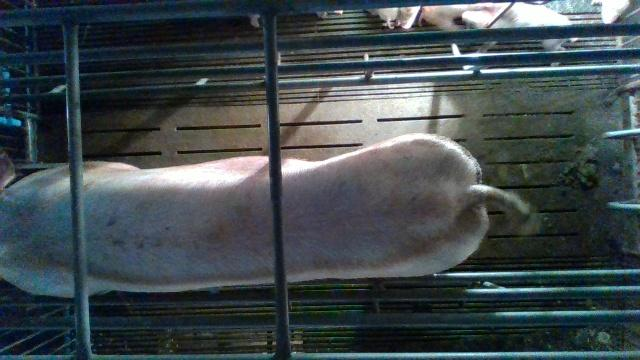piglet: (462, 3, 570, 65)
sow-stand-feed: (0, 133, 530, 297)
